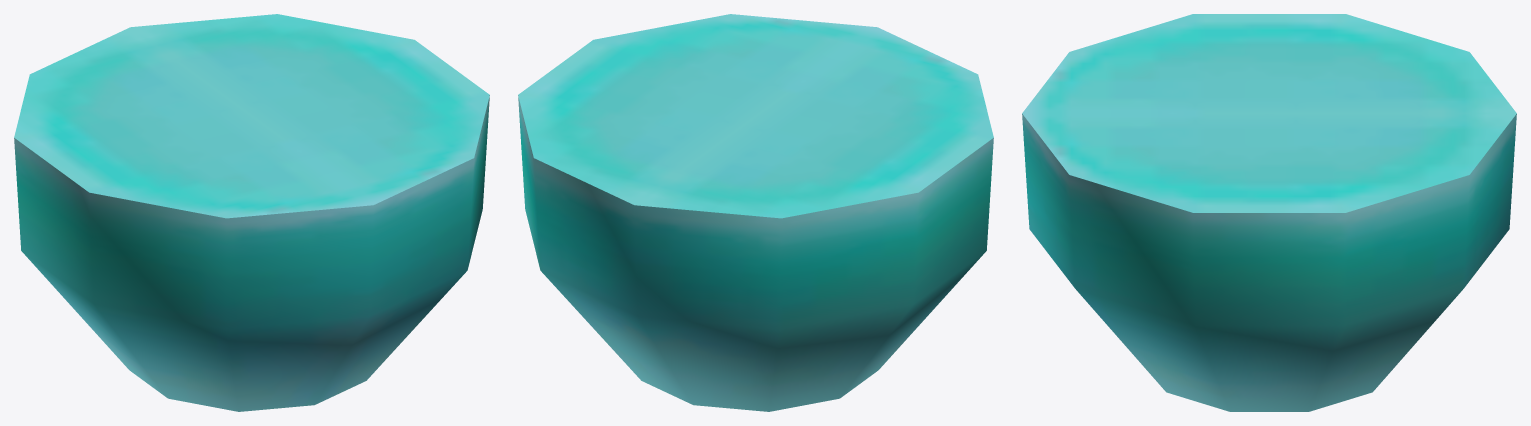
File: Bottle_D_Liquid_Teal.fbx
3 renders of one model, left to right at view 1: azimuth 30°, elevation 25°; view 2: azimuth 150°, elevation 25°; view 3: azimuth 270°, elevation 25°, orthographic.
Visible parts, largest first — view 1: Bottle_D_Liquid_Teal; view 2: Bottle_D_Liquid_Teal; view 3: Bottle_D_Liquid_Teal.
Boxes of the visible parts, left/top/right/bottom form: Bottle_D_Liquid_Teal: left=14, top=14, right=489, bottom=411; Bottle_D_Liquid_Teal: left=518, top=14, right=993, bottom=411; Bottle_D_Liquid_Teal: left=1022, top=14, right=1516, bottom=411.
Size of the model in its own units: 0.3903 by 0.2263 by 0.4104.
